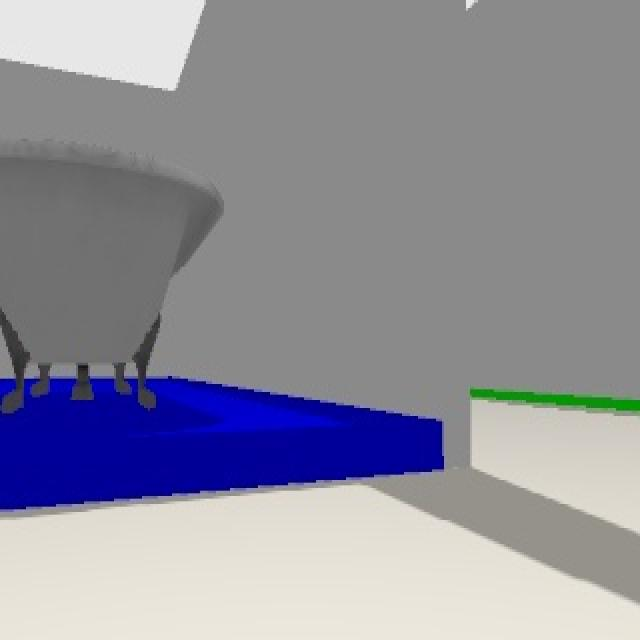bathtub: (0, 139, 224, 411)
